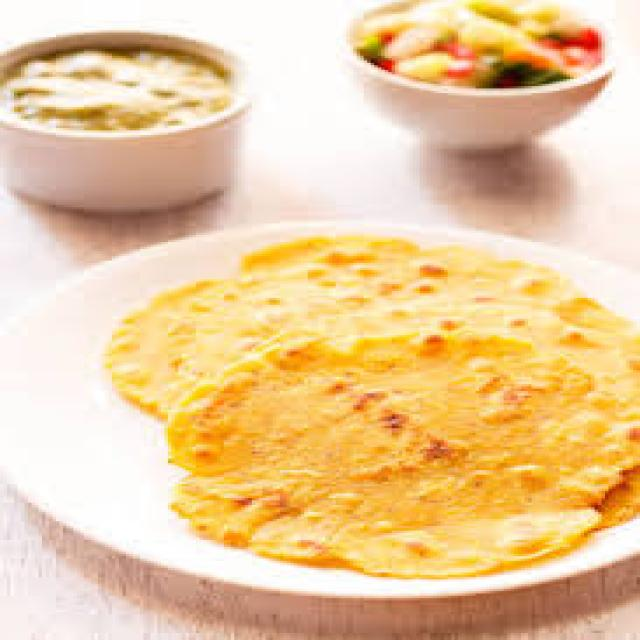ROTI: (177, 306, 637, 571), (104, 232, 637, 421)
